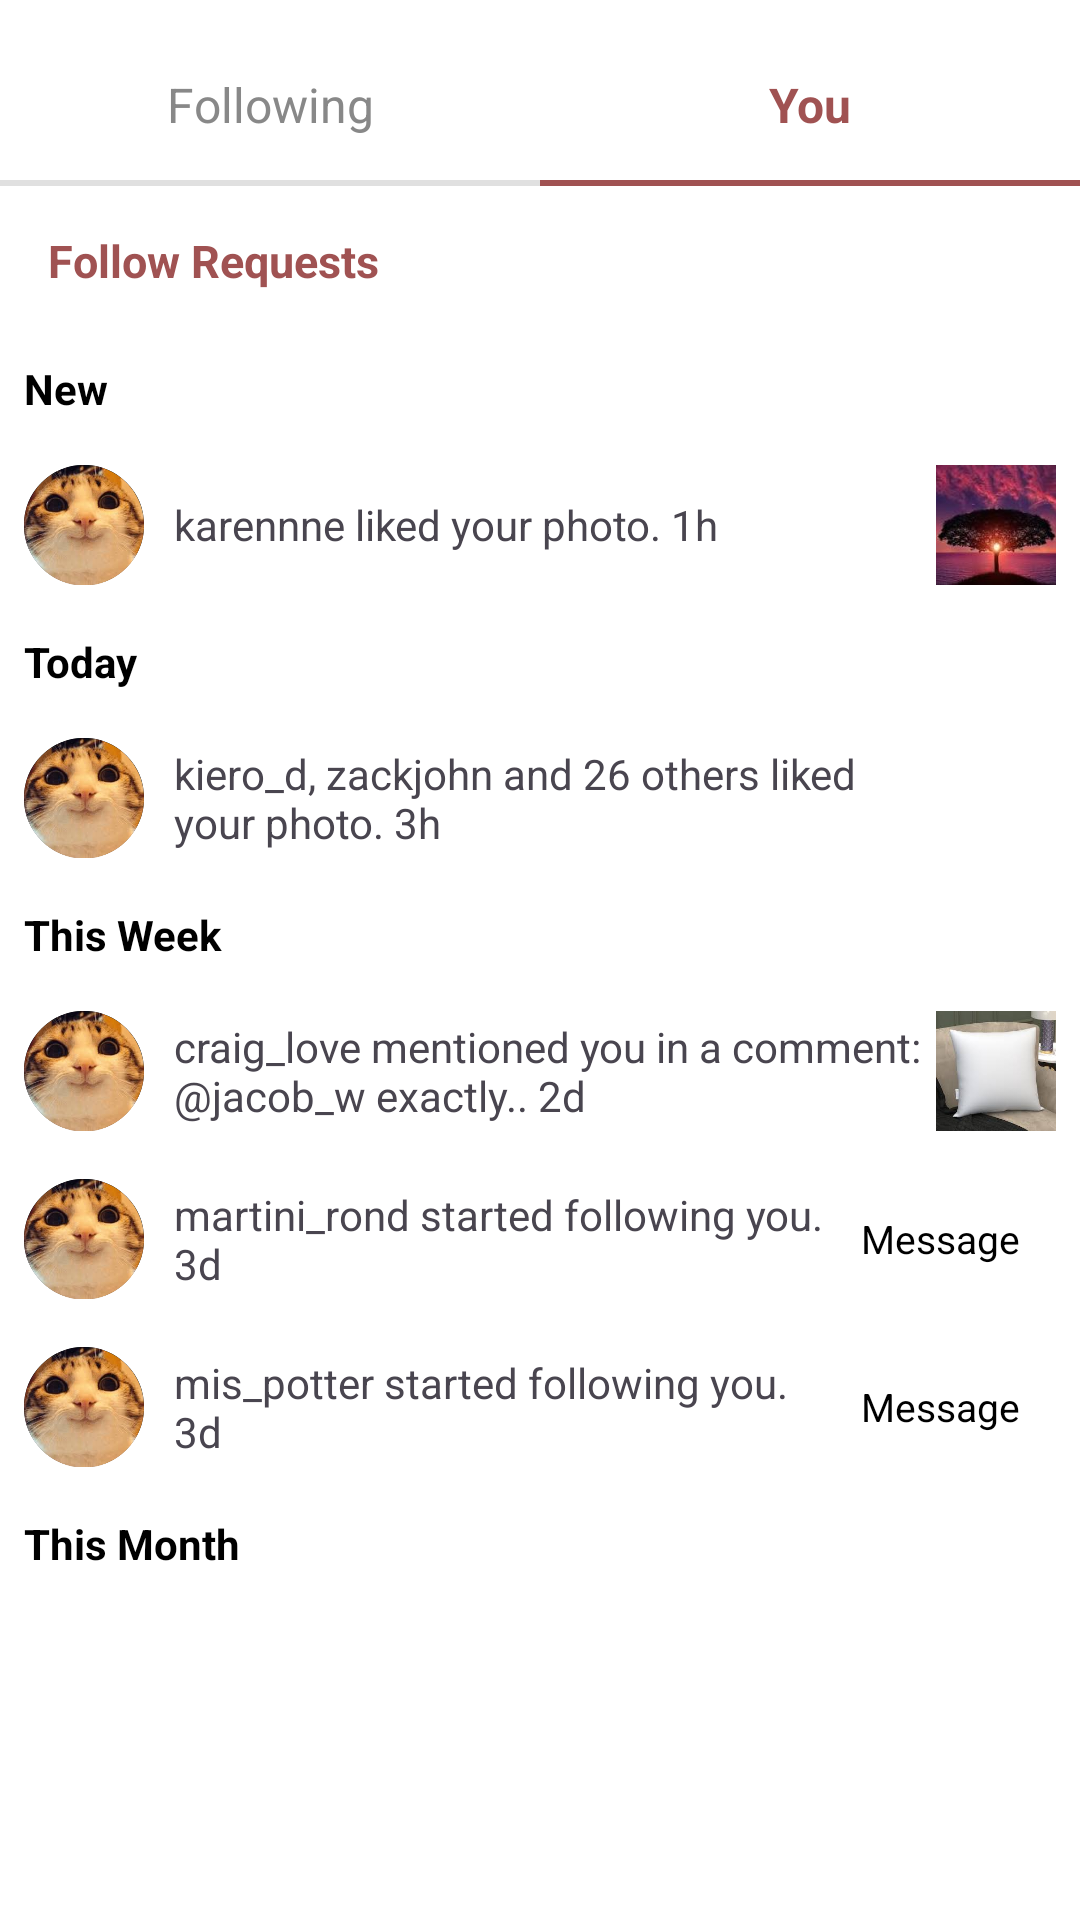

Where to tap for icons on this 1080×1920 app screen, as point (x, y):
profile circular: point (84, 525), point (84, 798), point (84, 1071), point (84, 1239), point (84, 1407)
